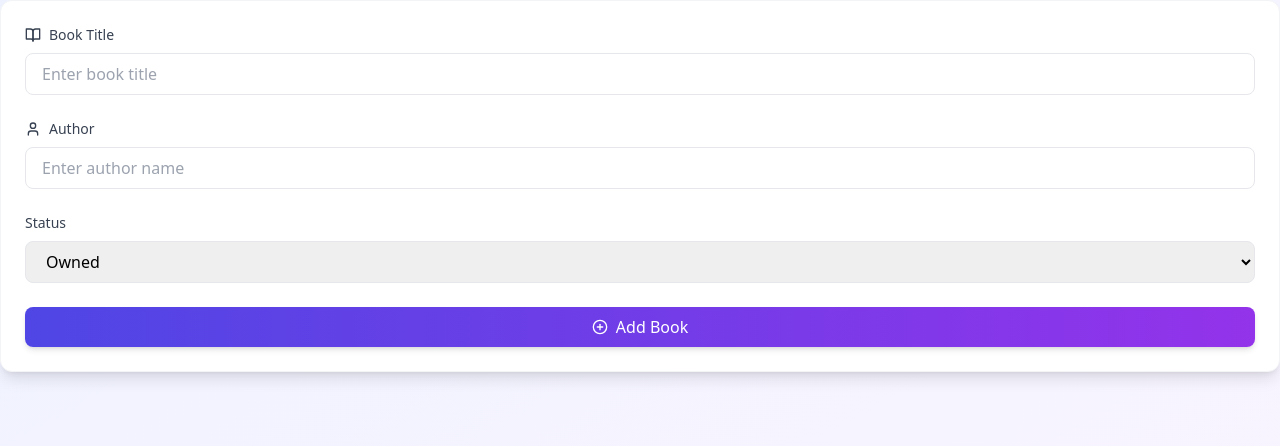
Test: BookForm › shows validation errors for empty fields
Click the button. click: coordinates (640, 327)
box: x1=25 y1=307 x2=1255 y2=347
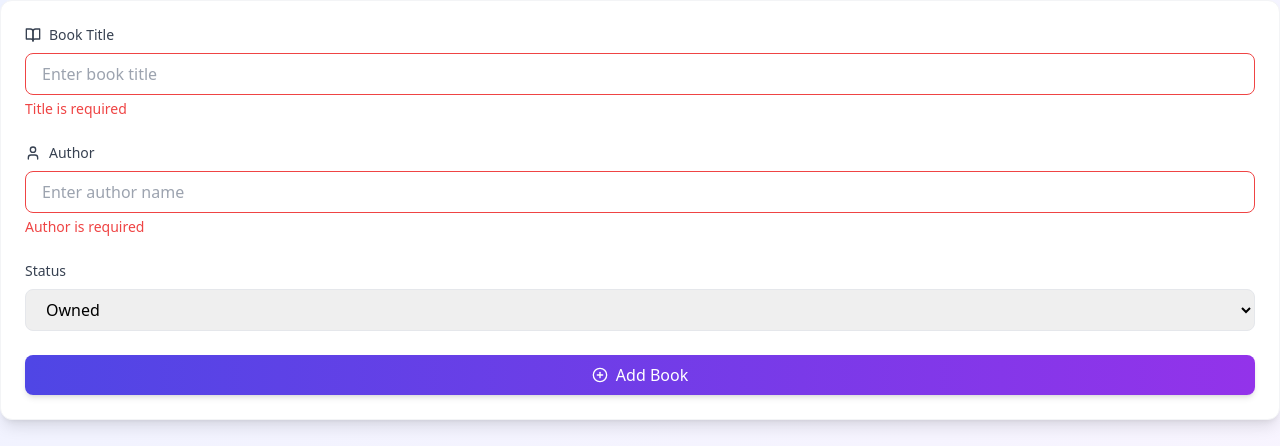
Now the text "Title is required" is shown, box x1=25 y1=99 x2=127 y2=118
Now the text "Author is required" is shown, box x1=25 y1=217 x2=144 y2=236
